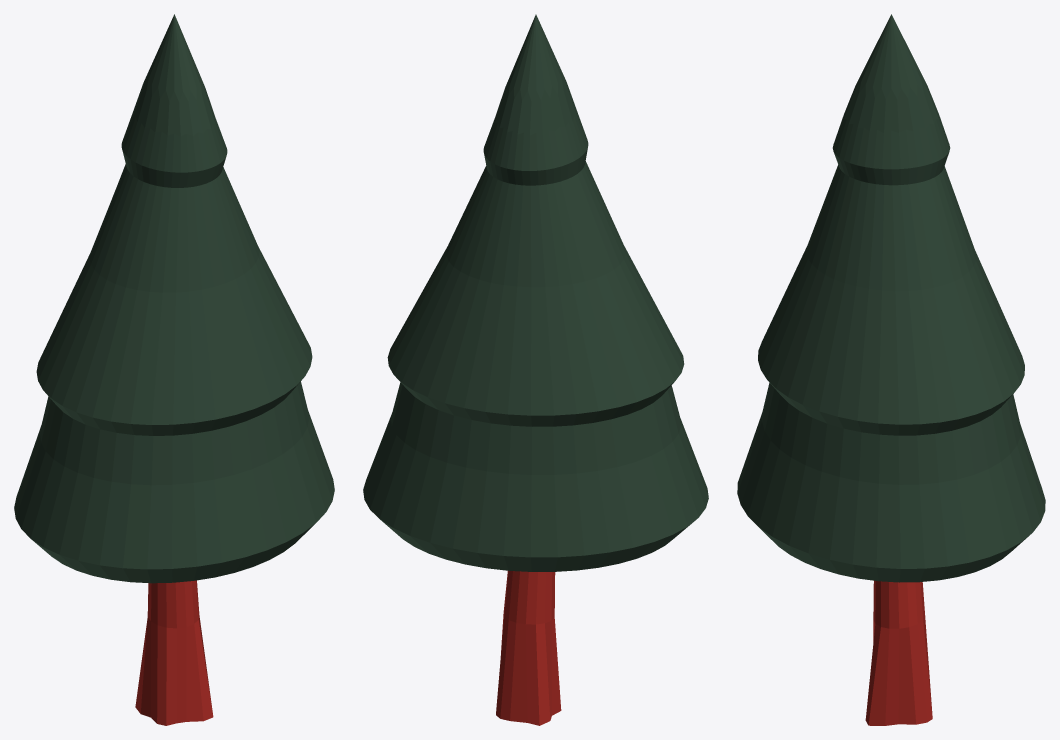
The model's file is Pine.obj.
3 views of the same model, side by side, from view 1: azimuth 30°, elevation 25°; view 2: azimuth 150°, elevation 25°; view 3: azimuth 270°, elevation 25° (orthographic).
Parts seen in each view (by area): view 1: pCone1, pasted__pCylinder1 group6; view 2: pCone1, pasted__pCylinder1 group6; view 3: pCone1, pasted__pCylinder1 group6.
Part boxes in pixels (bbox=[...]): pCone1: bbox=[14, 14, 334, 583]; pasted__pCylinder1 group6: bbox=[135, 580, 213, 725]; pCone1: bbox=[363, 14, 708, 571]; pasted__pCylinder1 group6: bbox=[496, 570, 561, 725]; pCone1: bbox=[737, 14, 1045, 582]; pasted__pCylinder1 group6: bbox=[865, 580, 932, 725].
Size of the model in its own units: 6.56 by 14.81 by 5.92.
